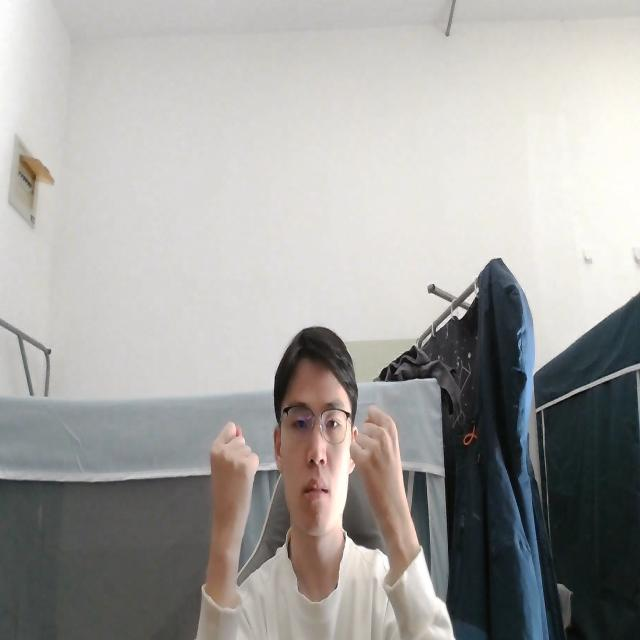ten: (348, 405, 411, 547), (205, 415, 263, 548)
